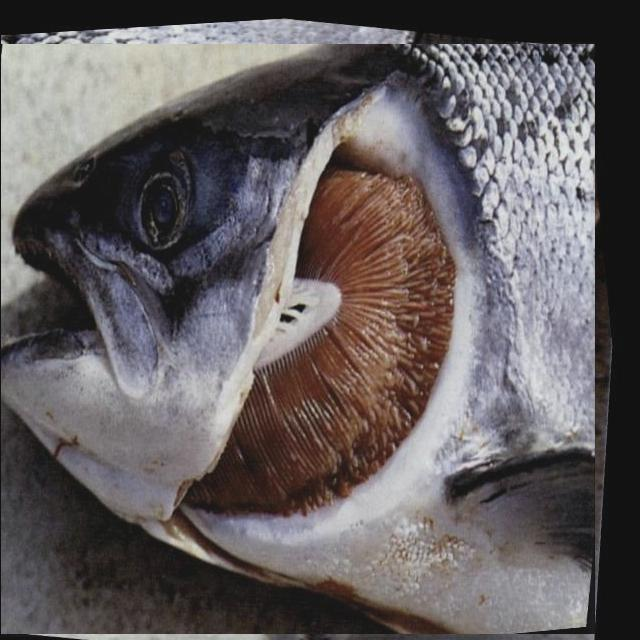Gill Disease: (0, 41, 593, 636)
